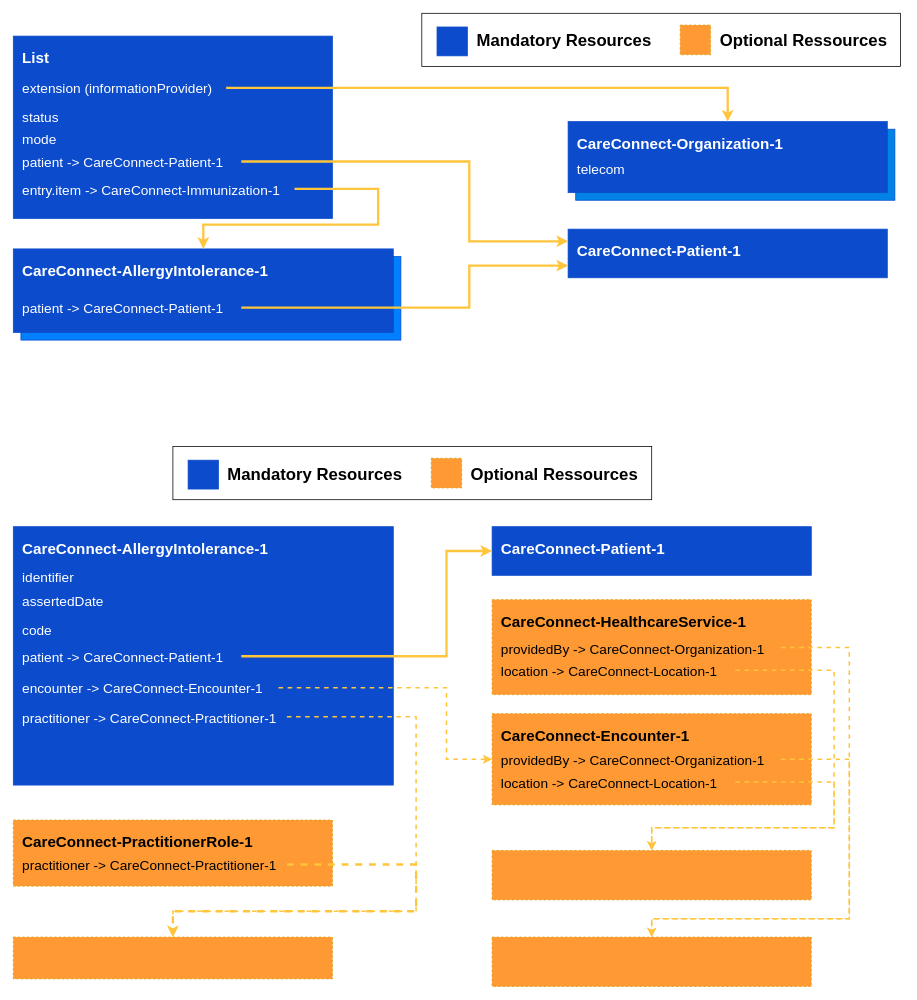
Image size: 917x1000. Some labels were removed from this diagram. Each missing label, with the centre of its shape:
"CareConnect-Location-1" belongs at (651,875).
"CareConnect-Organisation-1" belongs at (651,961).
"CareConnect-Practitioner-1" belongs at (172,957).
